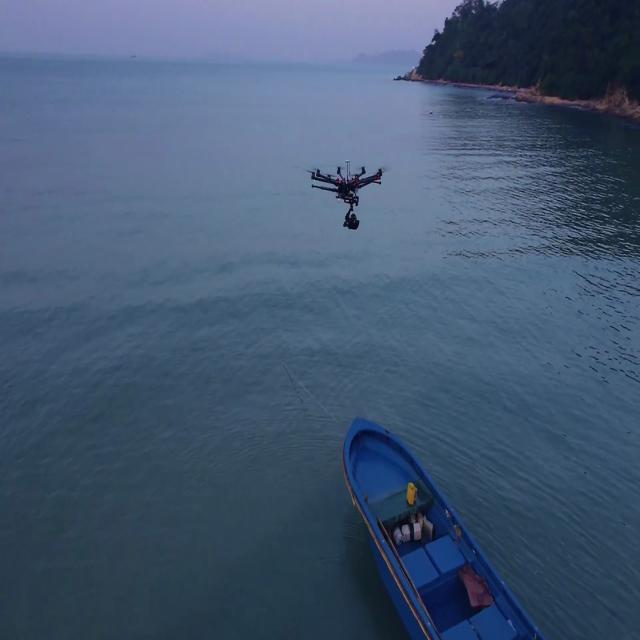drone: (304, 142, 390, 241)
